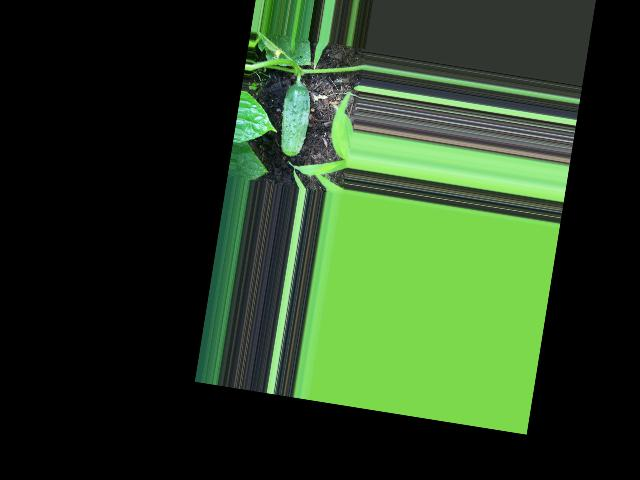cucumber: (275, 81, 314, 159)
